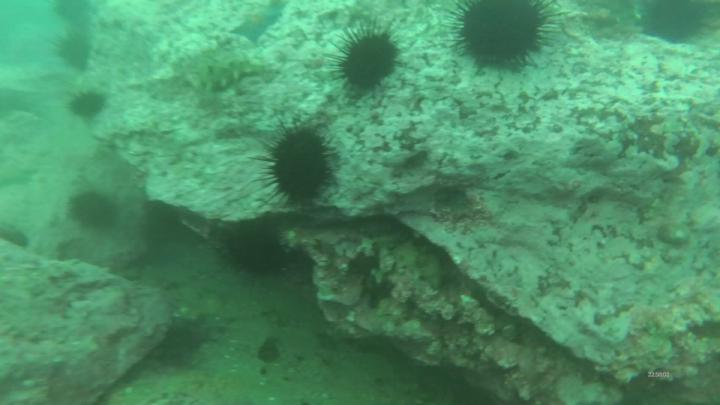echinus: (455, 1, 549, 74), (263, 124, 338, 205), (338, 27, 401, 100), (219, 222, 290, 282), (642, 1, 709, 48), (70, 191, 121, 233), (143, 200, 184, 249), (54, 32, 95, 75), (65, 88, 111, 125), (55, 1, 93, 30)
holothurian: (203, 56, 273, 99)
starfish: (228, 5, 285, 45)
